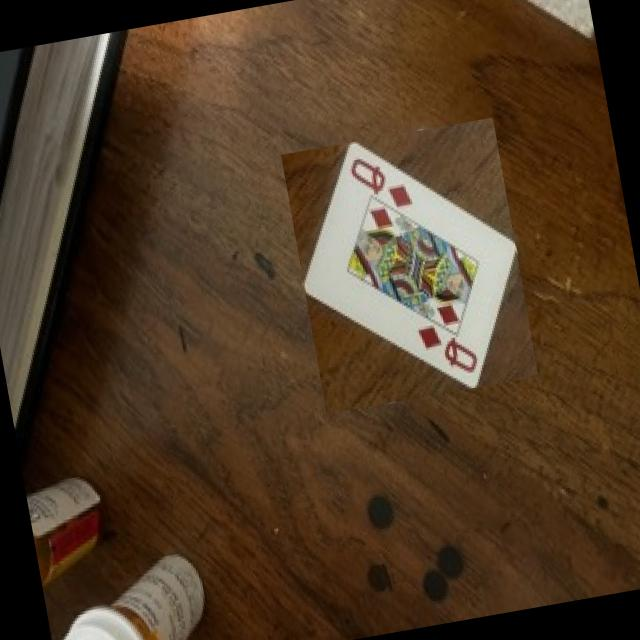Queen of diamonds: (305, 142, 515, 388)
